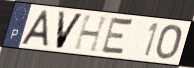1: (144, 23, 160, 59)
A: (19, 9, 49, 49)
E: (99, 15, 135, 58)
H: (72, 14, 111, 54)
O: (154, 24, 183, 61)
V: (54, 9, 85, 50)
